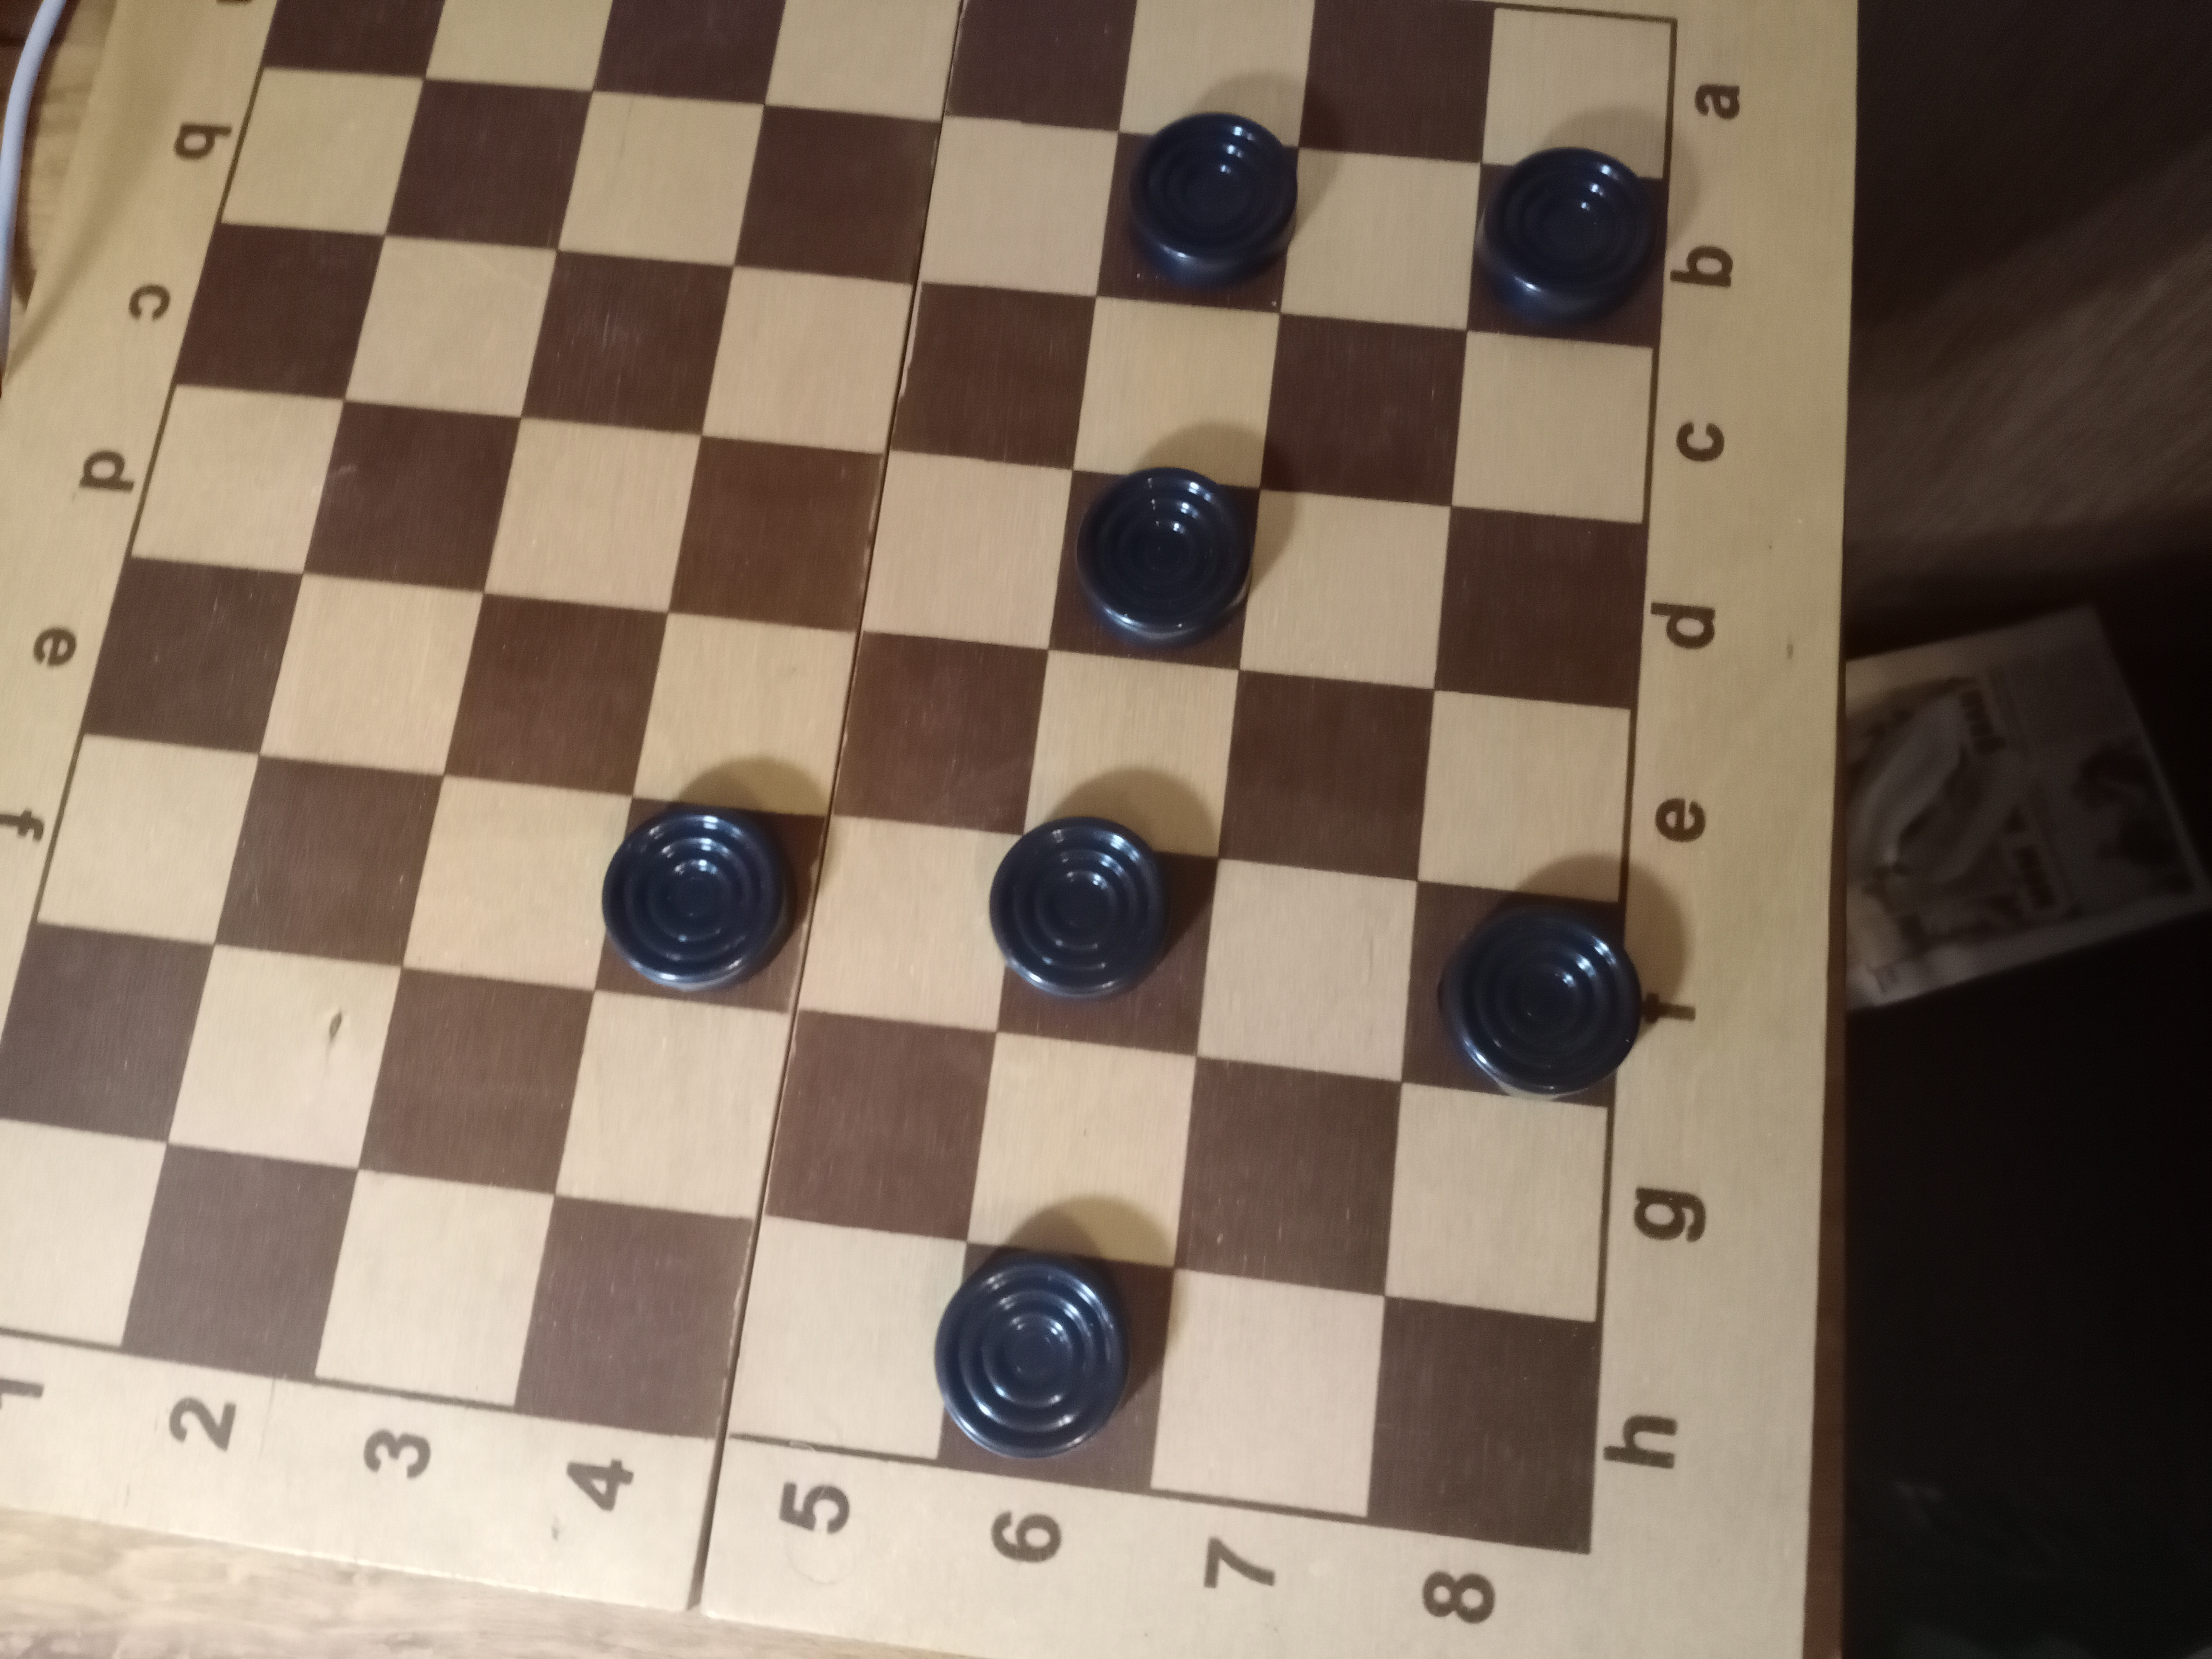Black_Draught: (935, 1241, 1172, 1492), (991, 817, 1221, 1056), (1402, 884, 1639, 1105), (594, 798, 829, 1012), (1047, 469, 1259, 671), (1461, 148, 1667, 352), (1096, 112, 1299, 315)
